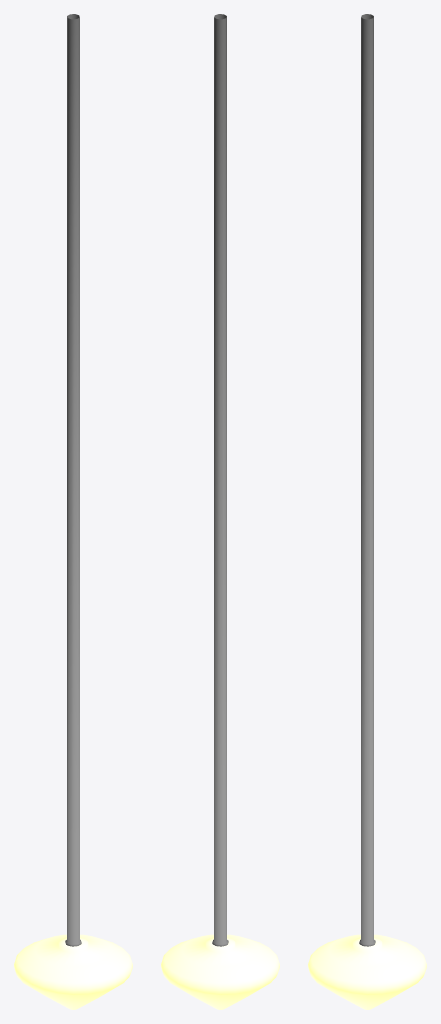
The model's file is Lamp_Single_Final.fbx.
3 views of the same model, side by side, from view 1: azimuth 30°, elevation 25°; view 2: azimuth 150°, elevation 25°; view 3: azimuth 330°, elevation 25° (orthographic).
Visible parts, largest first — view 1: Light_Pole_Single_Final; view 2: Light_Pole_Single_Final; view 3: Light_Pole_Single_Final.
Boxes of the visible parts, bbox=[...] form: Light_Pole_Single_Final: bbox=[14, 14, 132, 1009]; Light_Pole_Single_Final: bbox=[161, 14, 279, 1009]; Light_Pole_Single_Final: bbox=[308, 14, 426, 1009].
Size of the model in its own units: 0.2641 by 2.43 by 0.2641.
